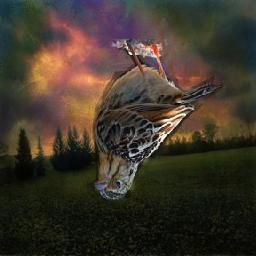Sparrow: (87, 40, 223, 207)
